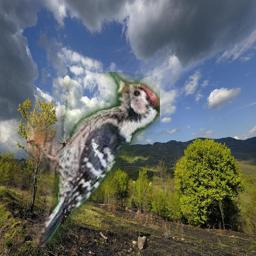Woodpecker: (27, 72, 160, 247)
